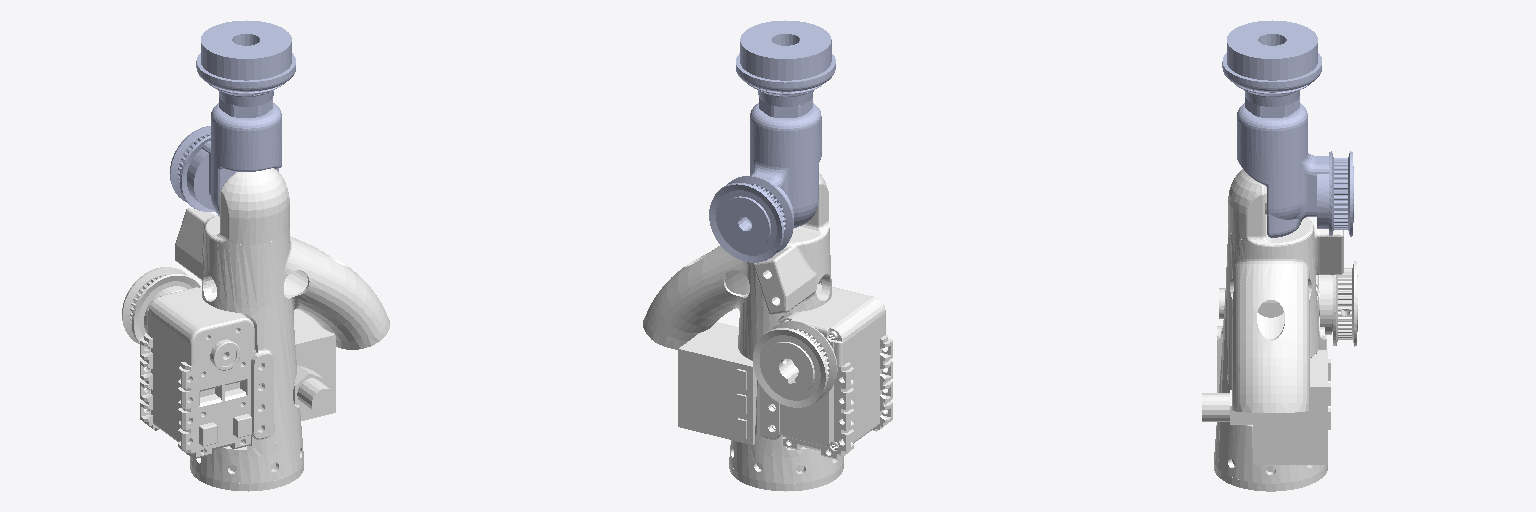
robot.urdf — suction_urdf:
<?xml version="1.0"?>
<robot
  name="suction_urdf">
  <link
    name="tool_link">
    <inertial>
      <origin
        xyz="-0.003041 0.0027723 0.043545"
        rpy="0 0 0" />
      <mass
        value="0.11123" />
      <inertia
        ixx="8.4875E-05"
        ixy="4.1003E-07"
        ixz="4.0241E-06"
        iyy="0.00010438"
        iyz="6.5325E-07"
        izz="4.7593E-05" />
    </inertial>
    <visual>
      <origin
        xyz="0 0 0"
        rpy="0 0 0" />
      <geometry>
        <mesh
          filename="package://suction_urdf/meshes/tool_link.STL" />
      </geometry>
      <material
        name="">
        <color
          rgba="1 1 1 1" />
      </material>
    </visual>
    <collision>
      <origin
        xyz="0 0 0"
        rpy="0 0 0" />
      <geometry>
        <mesh
          filename="package://suction_urdf/meshes/tool_link.STL" />
      </geometry>
    </collision>
  </link>
  <link
    name="tool_end_Link">
    <inertial>
      <origin
        xyz="9.909E-05 0.0039906 0.025651"
        rpy="0 0 0" />
      <mass
        value="0.033438" />
      <inertia
        ixx="2.0813E-05"
        ixy="1.7379E-08"
        ixz="9.2823E-08"
        iyy="1.8619E-05"
        iyz="4.6462E-06"
        izz="5.6779E-06" />
    </inertial>
    <visual>
      <origin
        xyz="0 0 0"
        rpy="0 0 0" />
      <geometry>
        <mesh
          filename="package://suction_urdf/meshes/tool_end_Link.STL" />
      </geometry>
      <material
        name="">
        <color
          rgba="0.79216 0.81961 0.93333 1" />
      </material>
    </visual>
    <collision>
      <origin
        xyz="0 0 0"
        rpy="0 0 0" />
      <geometry>
        <mesh
          filename="package://suction_urdf/meshes/tool_end_Link.STL" />
      </geometry>
    </collision>
  </link>
  <joint
    name="tool_joint"
    type="revolute">
    <origin
      xyz="0 0.002 0.1045"
      rpy="-1.7985E-15 -2.9973E-16 1.1669E-16" />
    <parent
      link="tool_link" />
    <child
      link="tool_end_Link" />
    <axis
      xyz="0 1 0" />
    <limit
      effort="0"
      velocity="0" />
  </joint>
</robot>

--- Render facts (derived) ---
The picture shows the robot from 3 angles, left to right: view 1: azimuth 30°, elevation 25°; view 2: azimuth 150°, elevation 25°; view 3: azimuth 270°, elevation 25°; orthographic projection.
Robot: suction_urdf — 2 links, 1 joints (1 revolute); root link tool_link; default pose: all joints at 0.
Links seen in each view (by area): view 1: tool_link, tool_end_Link; view 2: tool_link, tool_end_Link; view 3: tool_link, tool_end_Link.
Link boxes in pixels (x1,y1,x2,y2): tool_link: [122, 168, 389, 491]; tool_end_Link: [170, 20, 295, 216]; tool_link: [643, 173, 892, 491]; tool_end_Link: [709, 20, 835, 262]; tool_link: [1202, 169, 1357, 491]; tool_end_Link: [1222, 20, 1353, 237].
Size in the robot's own frame: 0.0897 by 0.0547 by 0.165 metres.
Meshes: 2 distinct files referenced, 2 mesh visuals loaded (2 binary STL).